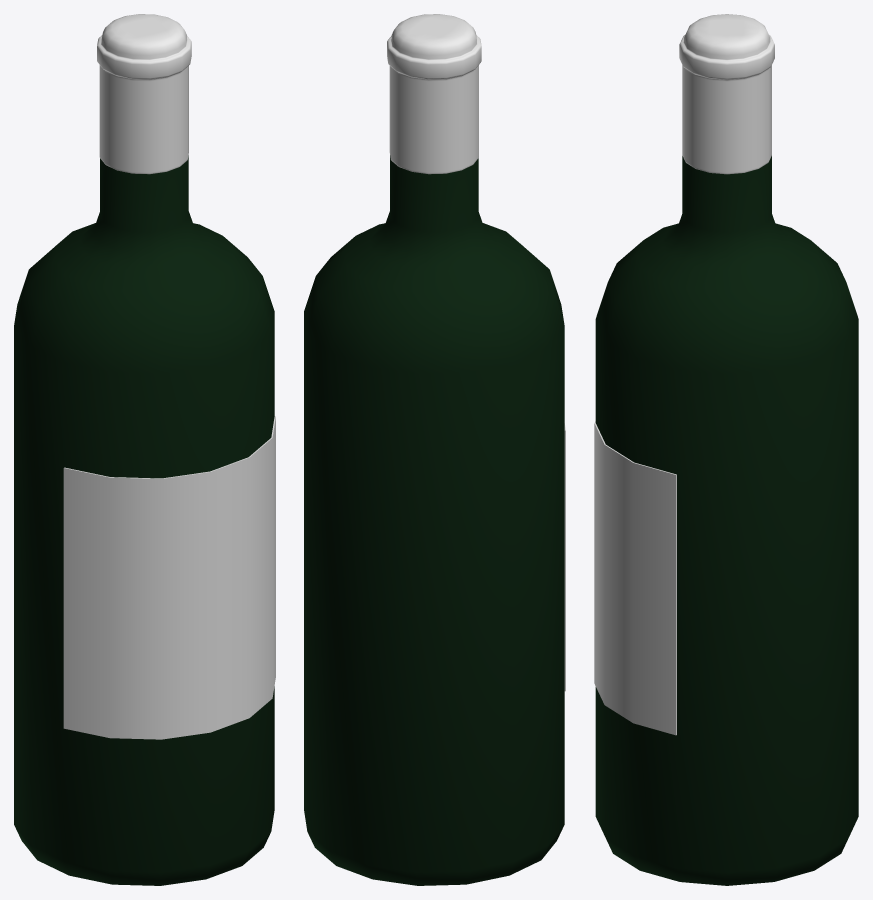
The model's file is MESH_Bottle_L.fbx.
3 renders of one model, left to right at view 1: azimuth 30°, elevation 25°; view 2: azimuth 150°, elevation 25°; view 3: azimuth 270°, elevation 25°, orthographic.
Parts seen in each view (by area): view 1: Bottle_L; view 2: Bottle_L; view 3: Bottle_L.
Boxes of the visible parts, <box> form: Bottle_L: <box>14,14,275,885</box>; Bottle_L: <box>304,14,565,885</box>; Bottle_L: <box>594,14,858,885</box>.
Size of the model in its own units: 19.66 by 67.09 by 19.76.
